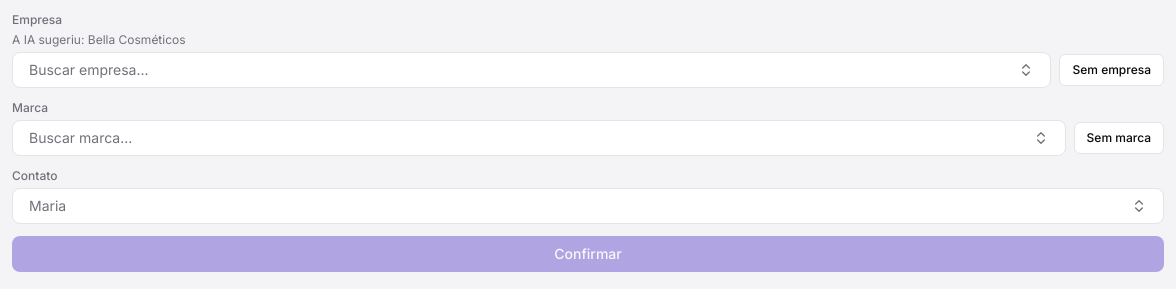
Scenario: InquiryEditForm › disables Confirmar until both company and brand have an explicit choice
Expected: the button "Confirmar" is disabled, [12,236,1164,272]
Click the button "Sem empresa": (1112, 70) [1060,54,1164,86]
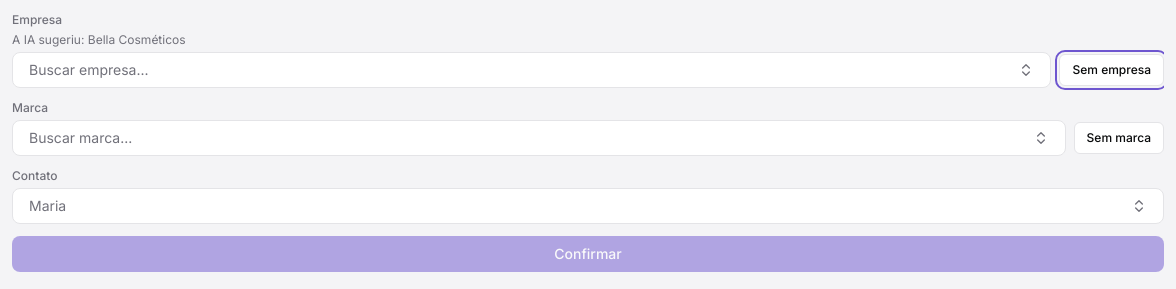
Expected: the button "Confirmar" is disabled, [12,236,1164,272]
Click the button "Sem marca": (1119, 138) [1074,122,1164,154]
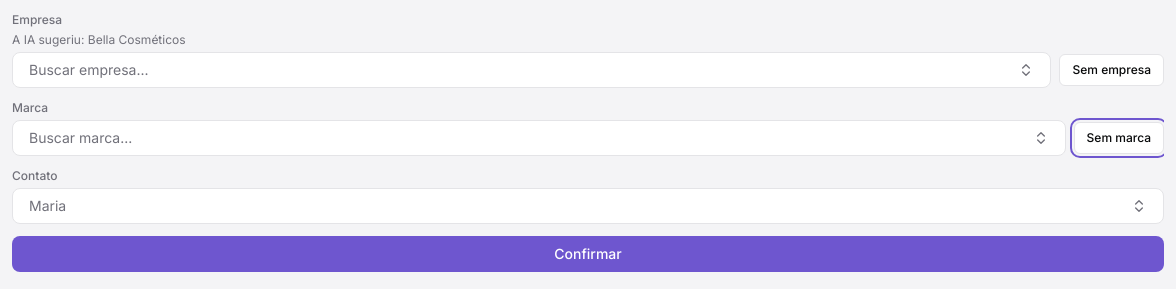
Now the button "Confirmar" is enabled, box [12,236,1164,272]
